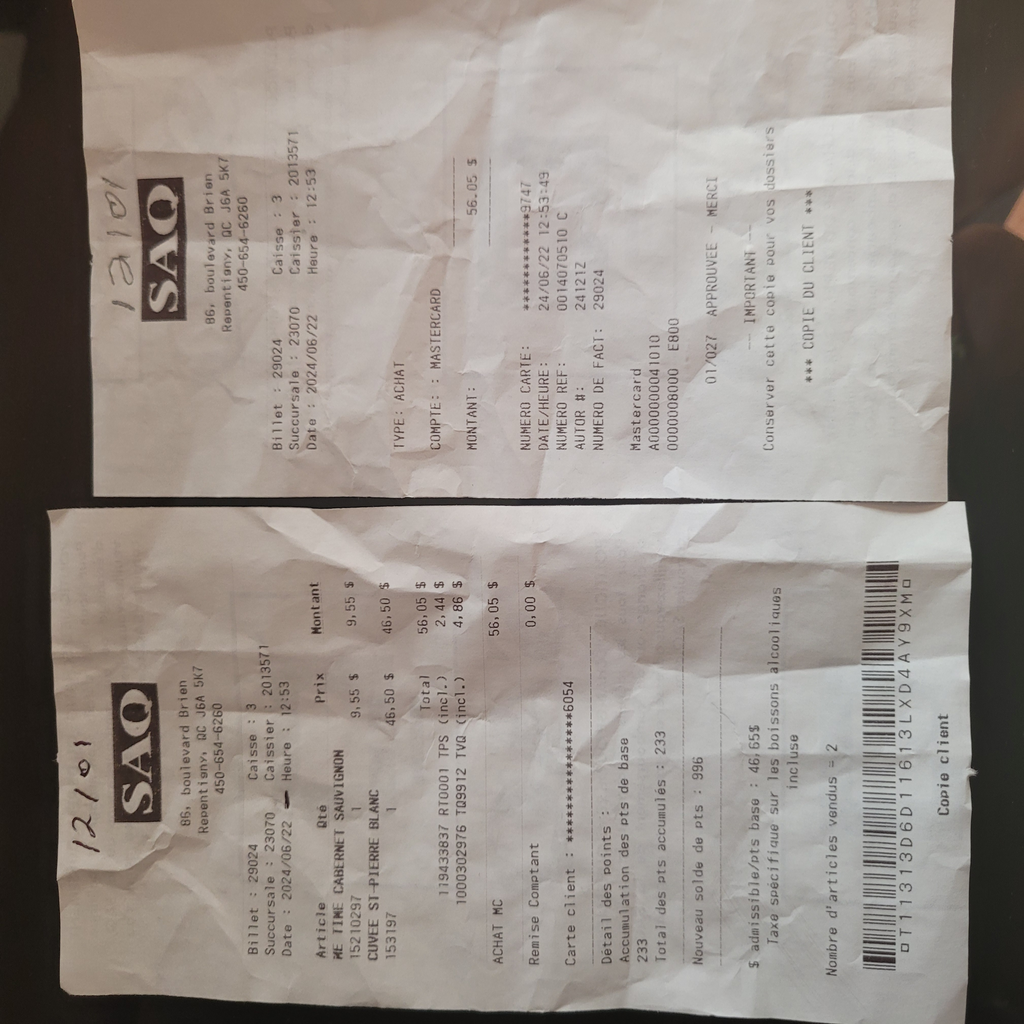recipt: (46, 497, 976, 1024), (78, 0, 959, 497)
